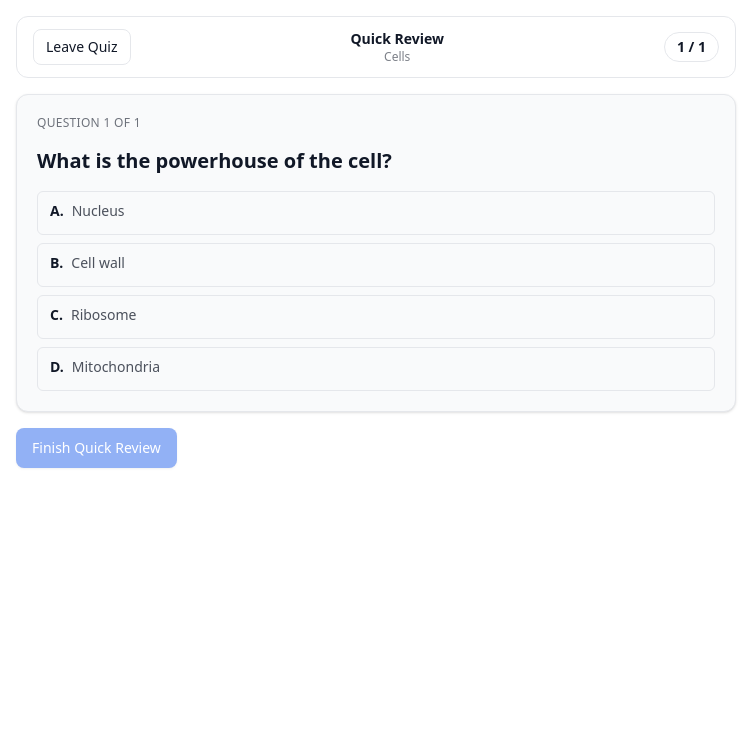
Test case: QuickReviewPage post-quiz UX › result screen does not contain a "Note" button
Step 1. Click the button "D.Mitochondria" → x=116, y=366, box [37,347,715,391]
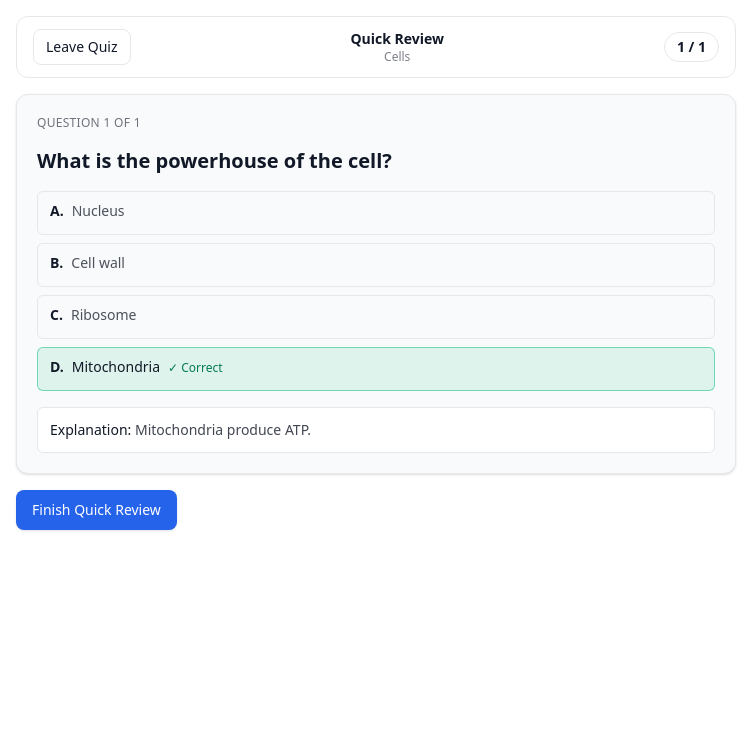
Now the button "Finish Quick Review" is enabled
Step 2. Click the button "Finish Quick Review" → x=96, y=510, box [16,490,177,530]
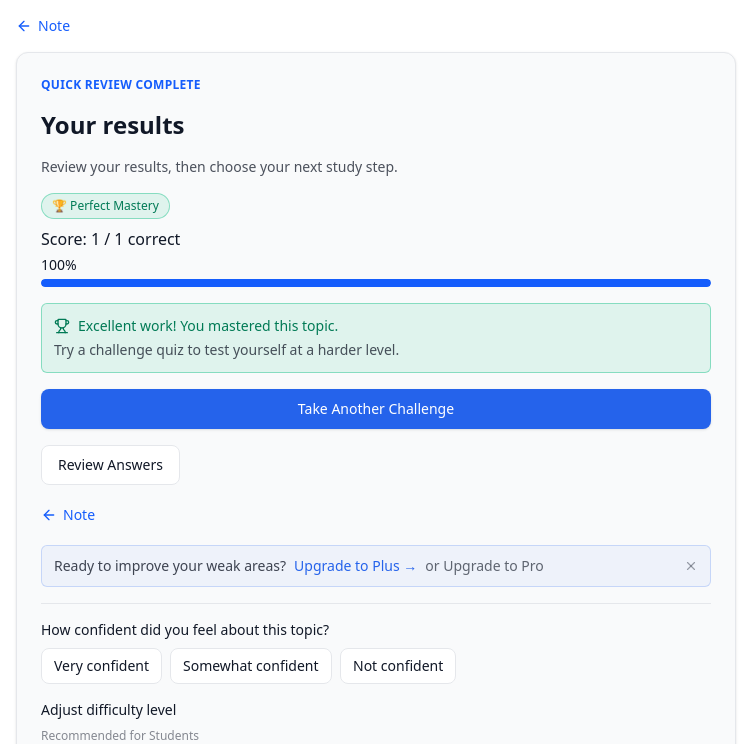
Now the text "Quick Review Complete" is shown, box [41,76,201,93]
